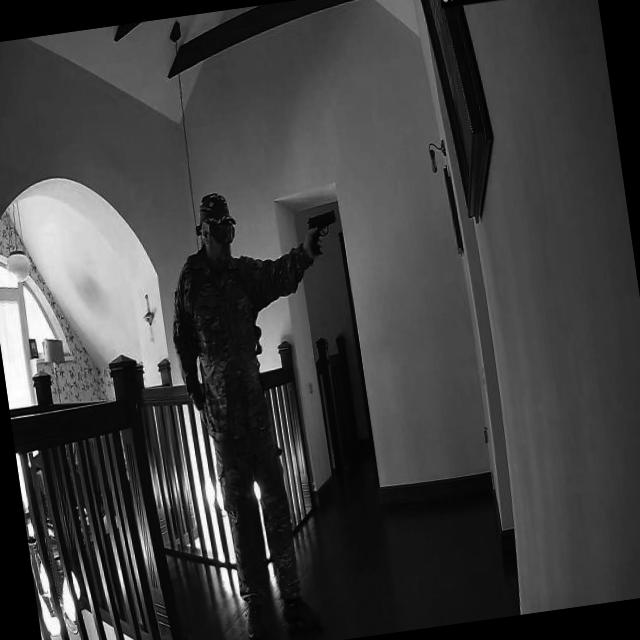gun: (304, 206, 342, 260)
person with a gun: (162, 179, 356, 640)
